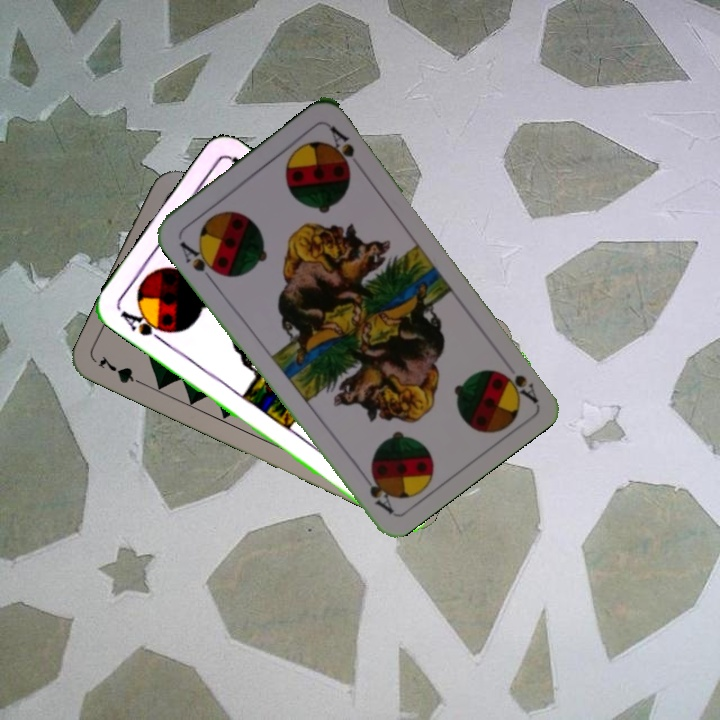G7: (94, 351, 149, 389)
SA: (115, 305, 173, 346), (175, 237, 223, 285), (497, 367, 540, 405)
